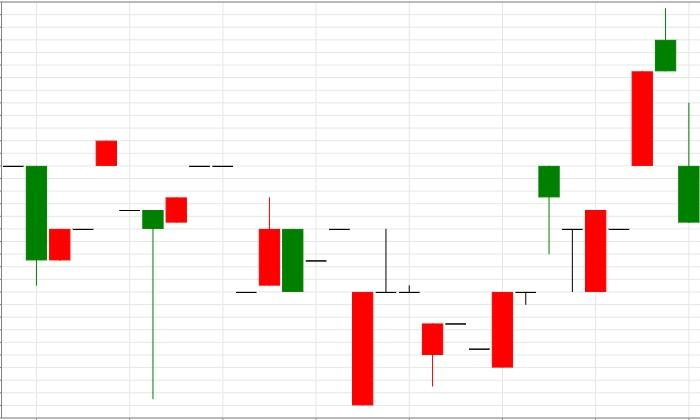hanging_man_fall: (422, 166, 559, 387)
